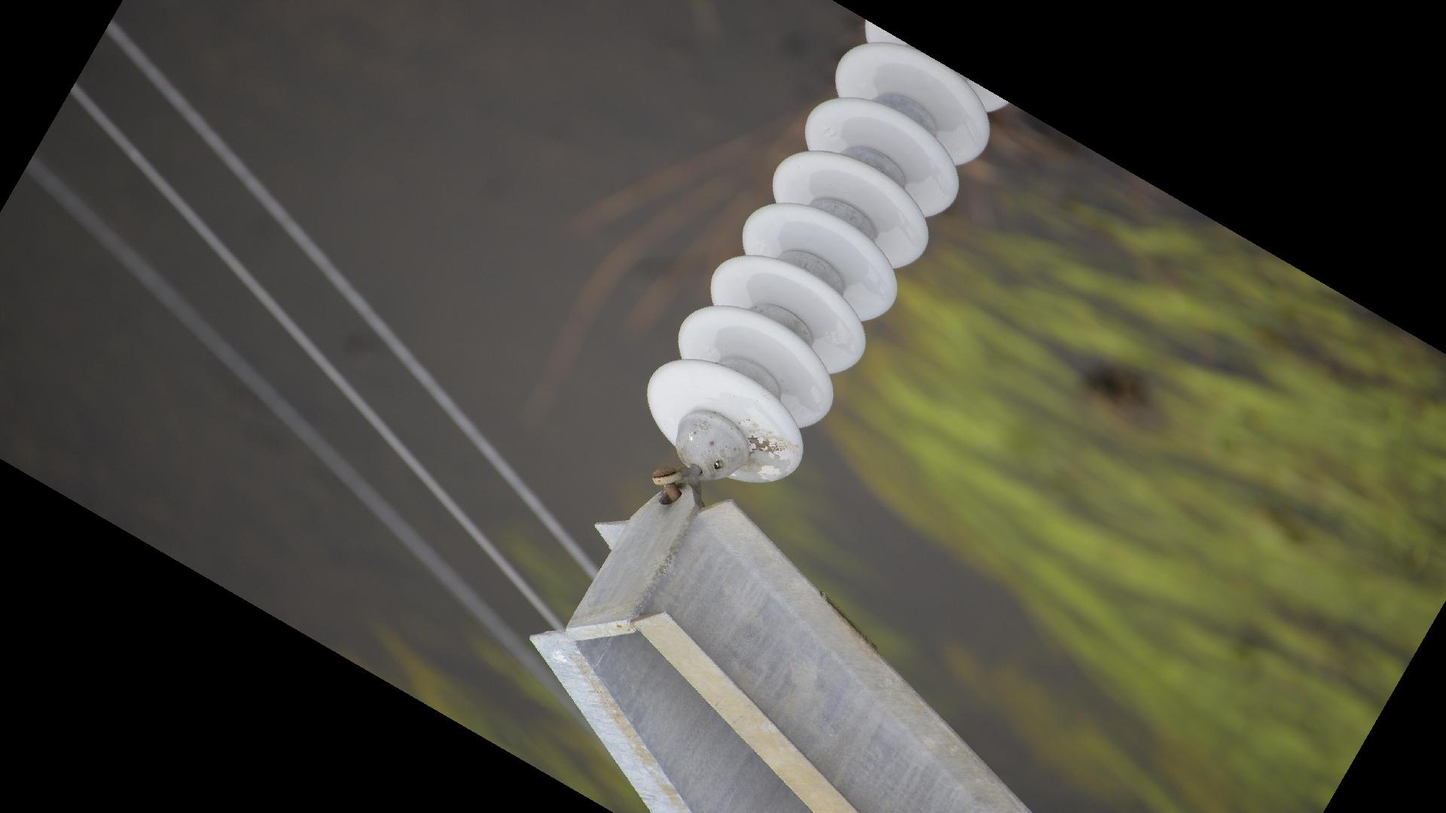insulator: (639, 17, 1017, 493)
insulator_flashover: (738, 428, 798, 486)
